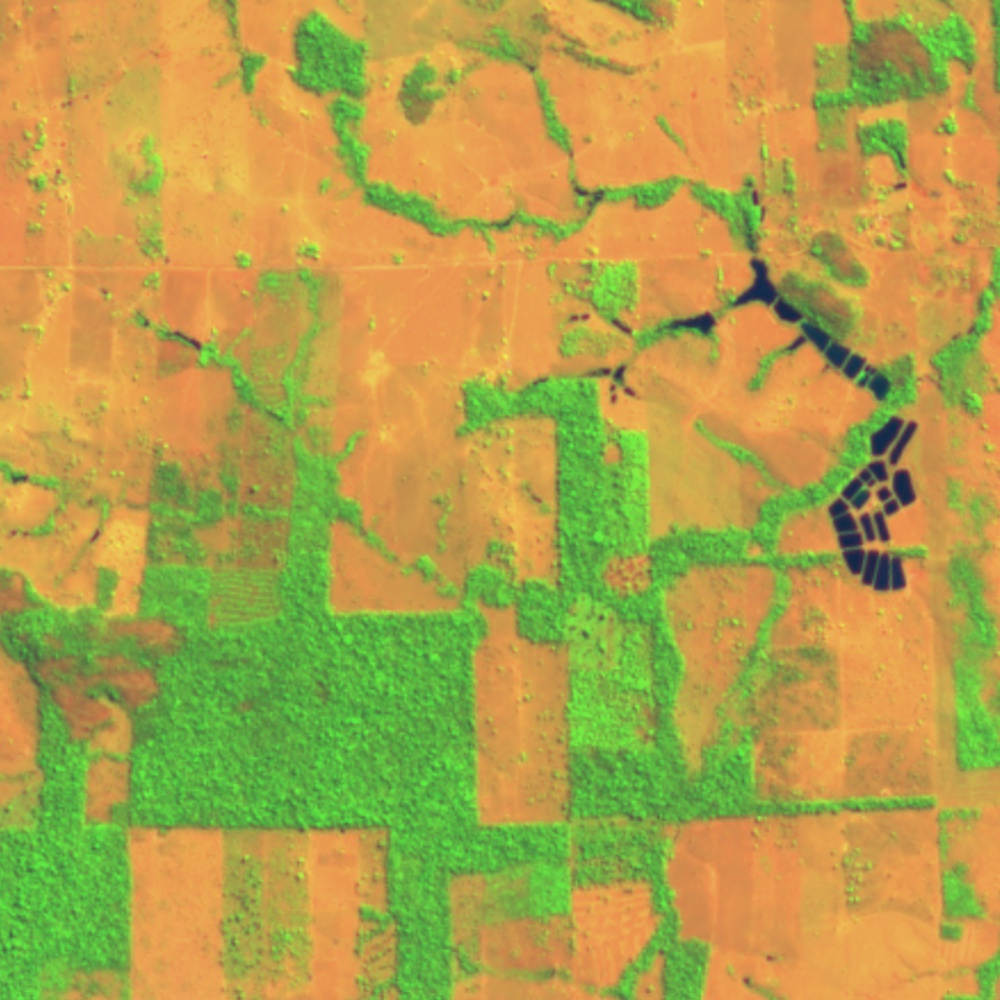illegal: (652, 256, 903, 405), (824, 416, 924, 594), (566, 306, 649, 407), (131, 309, 205, 351), (569, 175, 607, 217), (747, 185, 771, 229)
